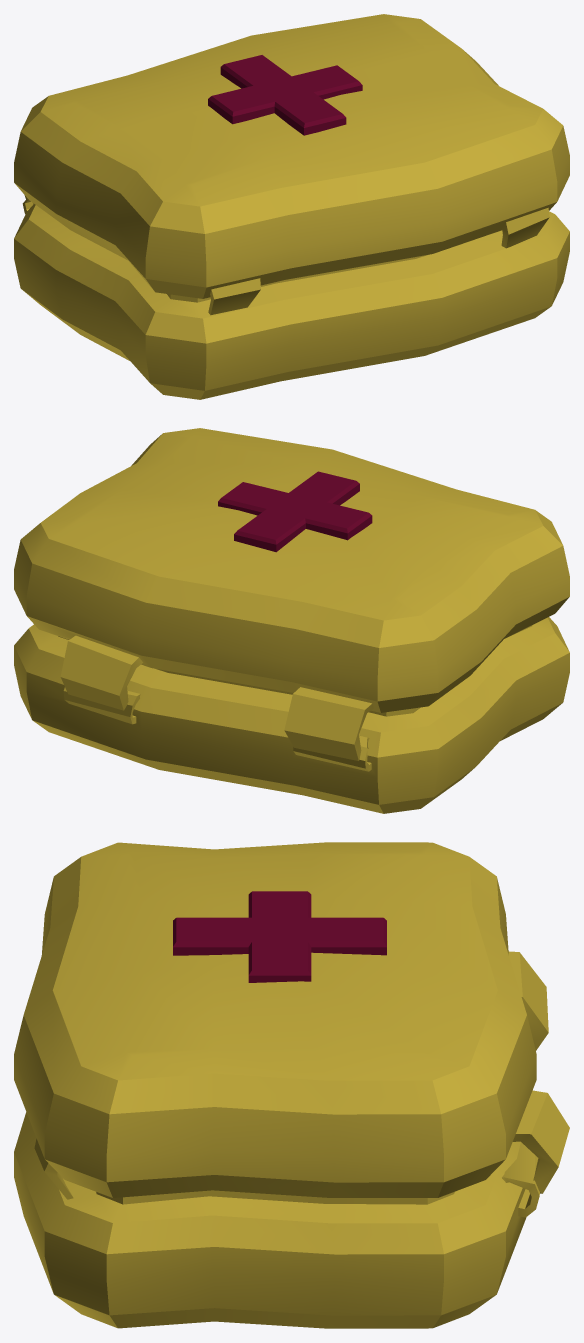
The model's file is First aid kit.FBX.
3 views of the same model, one above another, from view 1: azimuth 30°, elevation 25°; view 2: azimuth 150°, elevation 25°; view 3: azimuth 270°, elevation 25° (orthographic). The views are drawn at different scales.
Visible parts, largest first — view 1: First aid kit; view 2: First aid kit; view 3: First aid kit.
Boxes of the visible parts, bbox=[...] form: First aid kit: bbox=[14, 14, 569, 399]; First aid kit: bbox=[14, 428, 569, 813]; First aid kit: bbox=[14, 842, 569, 1328].
Bounding box in the file's own units: 1034 × 913 × 550.
